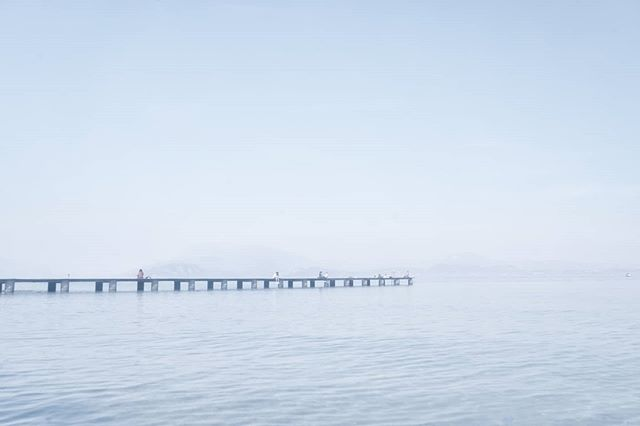bridge: (1, 264, 415, 299)
sea: (1, 294, 632, 426)
sky: (1, 1, 639, 265)
